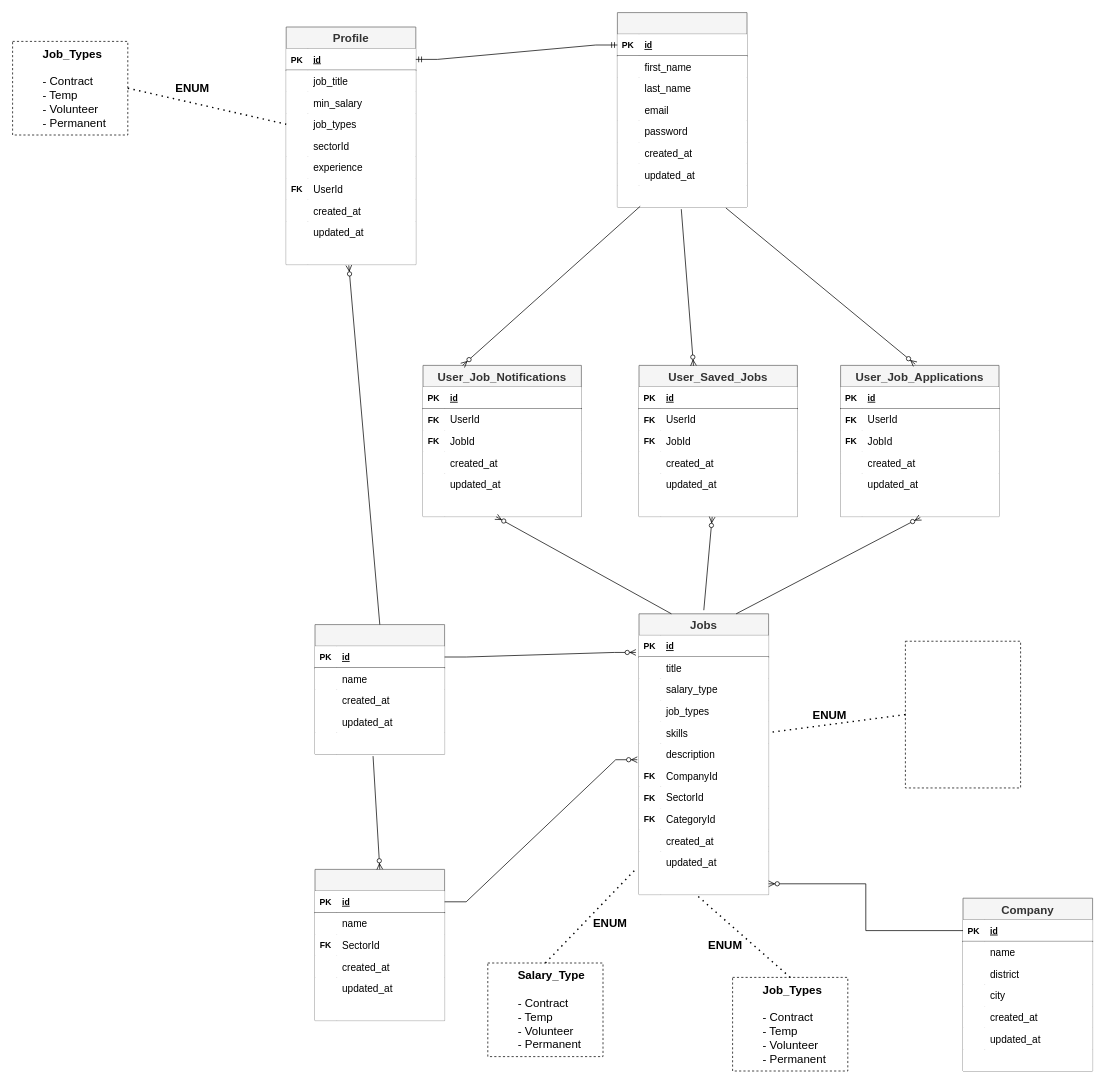
This 1105x1084 diagram has some shape labels left out. Each missing label, with the box of its shape:
Categories: (314, 869, 445, 1021)
Sectors: (314, 624, 445, 754)
Skills - HTML - CSS - Javascript - React - S3 - Node.js: (905, 641, 1021, 788)
Users: (617, 12, 747, 207)
